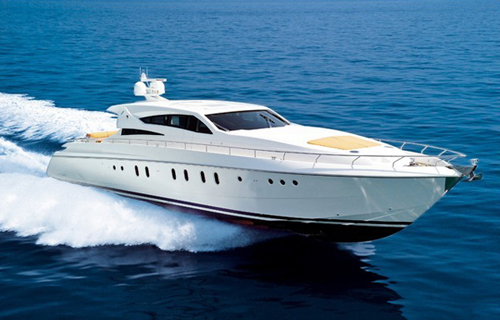yacht: (46, 71, 482, 242)
